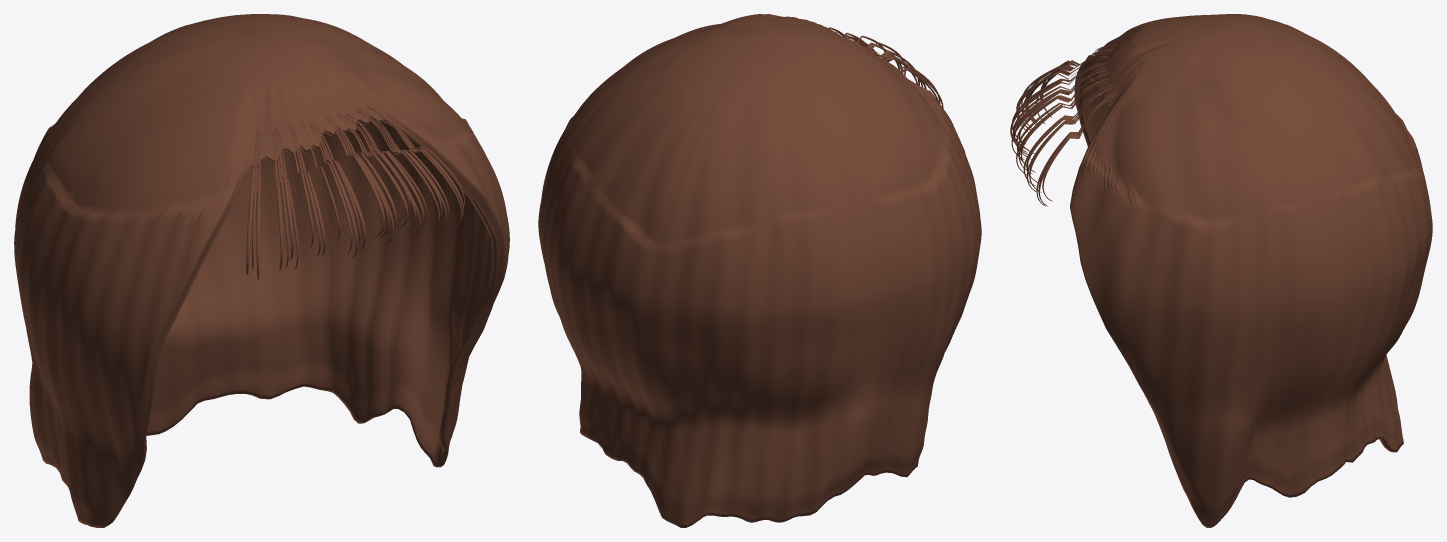
The model's file is side-sweep-headband.glb.
The picture shows the model from 3 angles, left to right: view 1: azimuth 30°, elevation 25°; view 2: azimuth 150°, elevation 25°; view 3: azimuth 270°, elevation 25°; orthographic projection. The views are drawn at different scales.
Visible parts, largest first — view 1: Hair / layered lob, Fringe / fine strands; view 2: Hair / layered lob, Fringe / fine strands; view 3: Hair / layered lob, Fringe / fine strands.
Boxes of the visible parts, box(x1,y1,x2,y2) form: Hair / layered lob: box(14, 14, 509, 527); Fringe / fine strands: box(246, 105, 464, 279); Hair / layered lob: box(538, 14, 981, 527); Fringe / fine strands: box(824, 26, 943, 108); Hair / layered lob: box(1070, 14, 1432, 527); Fringe / fine strands: box(1010, 44, 1117, 206).
Size of the model in its own units: 0.8388 by 0.8786 by 0.8009.
